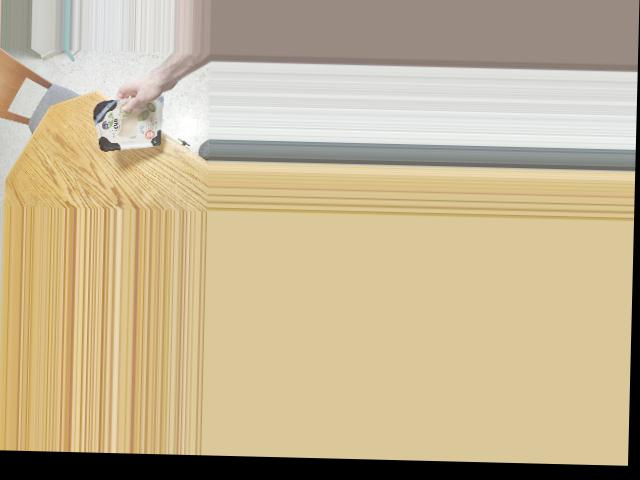cheese: (90, 94, 172, 146)
